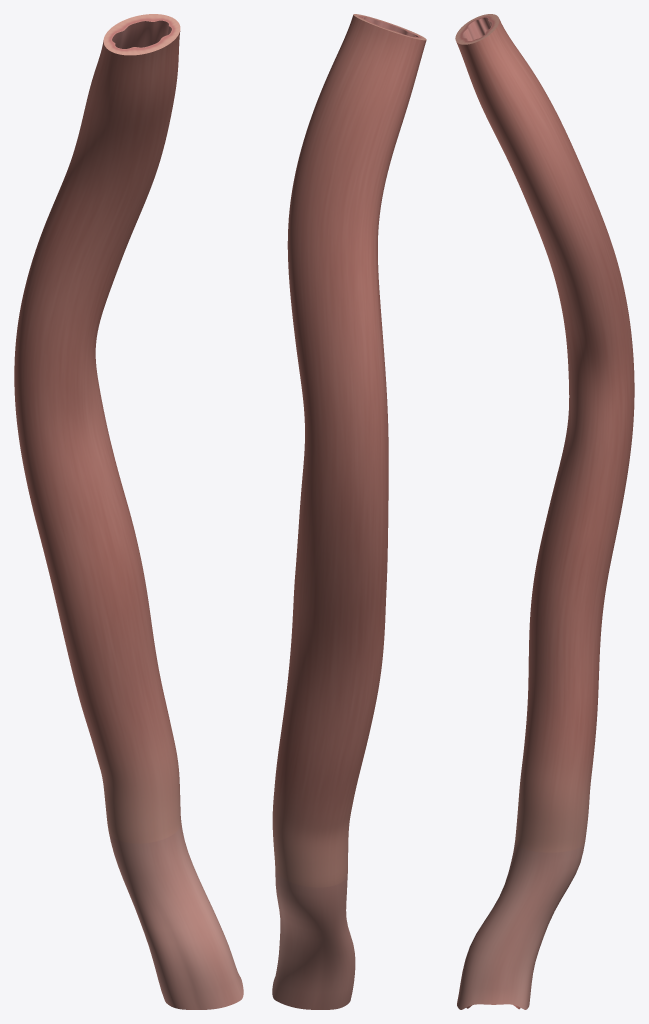
Rendered from isolated.glb.
3 views of the same model, side by side, from view 1: azimuth 30°, elevation 25°; view 2: azimuth 150°, elevation 25°; view 3: azimuth 270°, elevation 25° (orthographic). The views are drawn at different scales.
Parts seen in each view (by area): view 1: Display · 02 · 食管全长; view 2: Display · 02 · 食管全长; view 3: Display · 02 · 食管全长.
Part boxes in pixels (bbox=[...]): Display · 02 · 食管全长: bbox=[14, 14, 243, 1009]; Display · 02 · 食管全长: bbox=[272, 14, 426, 1009]; Display · 02 · 食管全长: bbox=[455, 14, 634, 1009].
Size of the model in its own units: 0.0425 by 0.2483 by 0.0424.
Materials: 17 (17 with a texture image).
